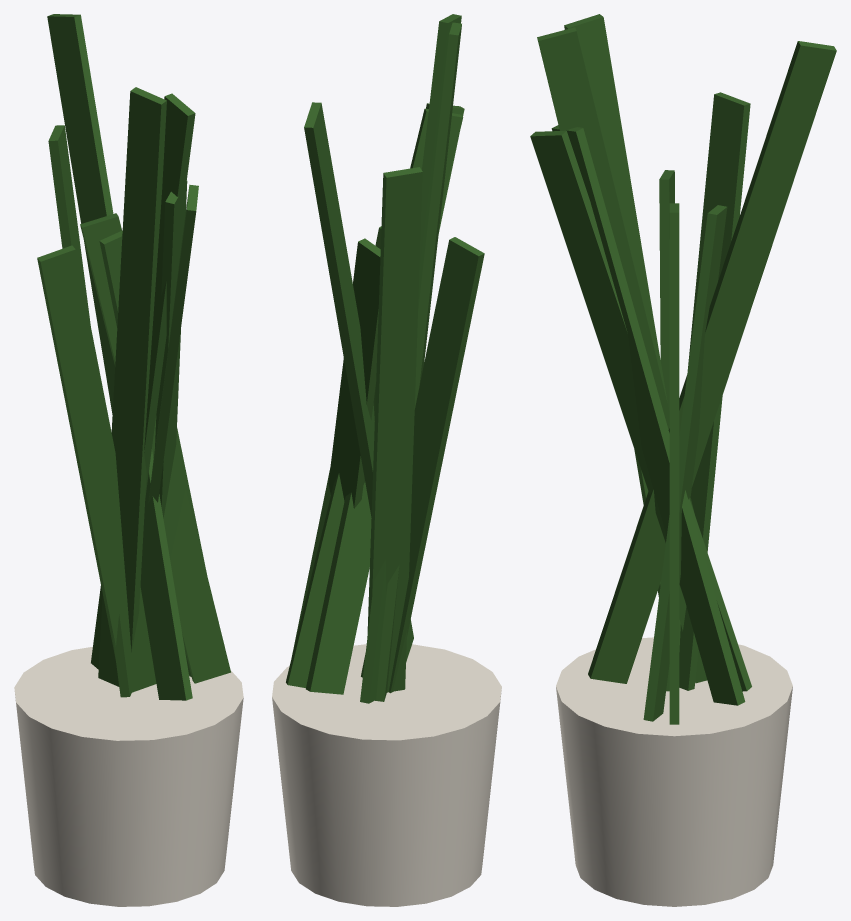
The model's file is tallPlant.glb.
3 views of the same model, side by side, from view 1: azimuth 30°, elevation 25°; view 2: azimuth 150°, elevation 25°; view 3: azimuth 270°, elevation 25° (orthographic). The views are drawn at different scales.
Parts seen in each view (by area): view 1: tallPlant; view 2: tallPlant; view 3: tallPlant.
Part boxes in pixels (left/top/right/bottom): tallPlant: left=14, top=14, right=243, bottom=906; tallPlant: left=272, top=14, right=501, bottom=906; tallPlant: left=530, top=14, right=836, bottom=906.
Size of the model in its own units: 0.36 by 1.4 by 0.4656.
